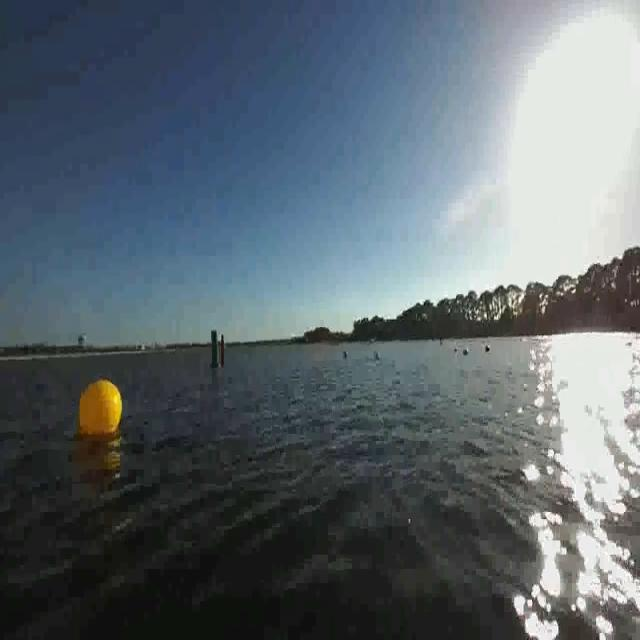green-column-buoy: (209, 330, 221, 370)
yellow-buoy: (76, 377, 125, 439)
